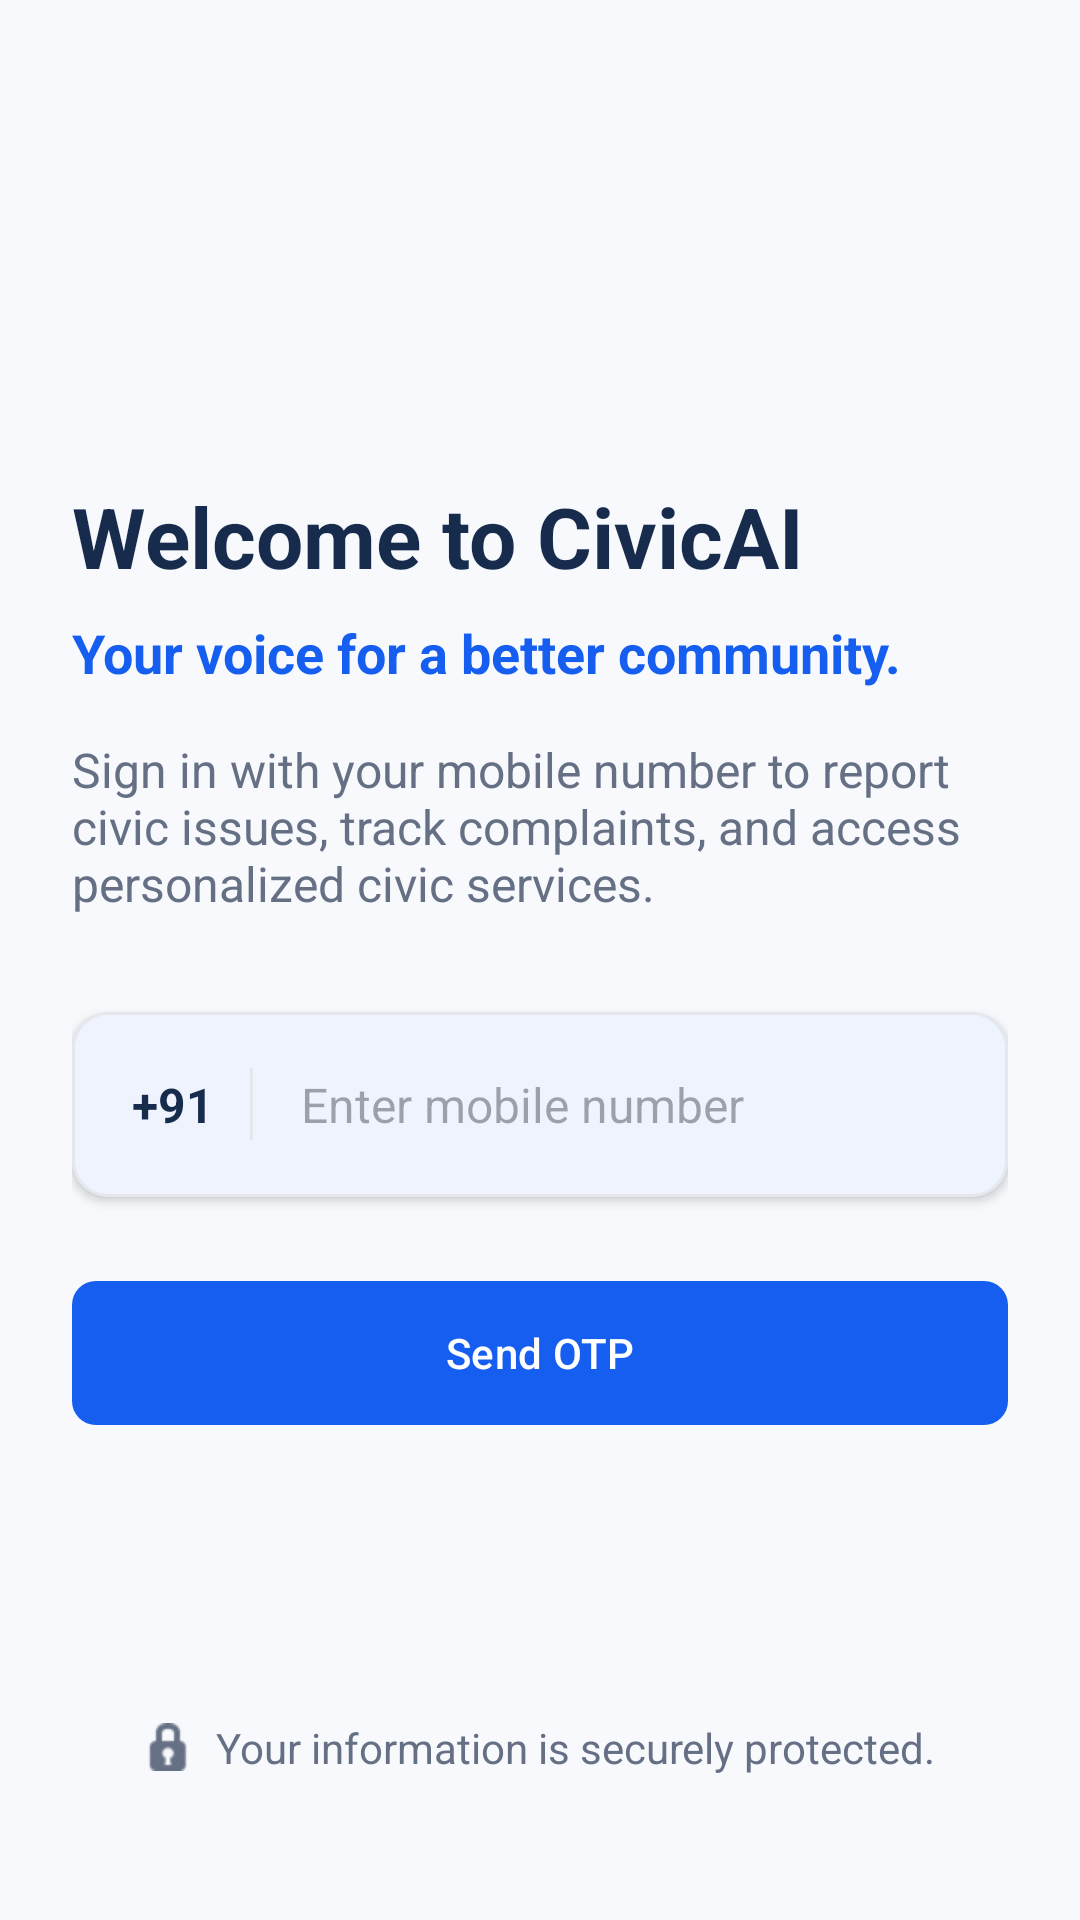

Named icons in this screenshot (1080w x 1920h) and their centers, point (x, y):
Secure Connection Icon: point (168, 1747)
